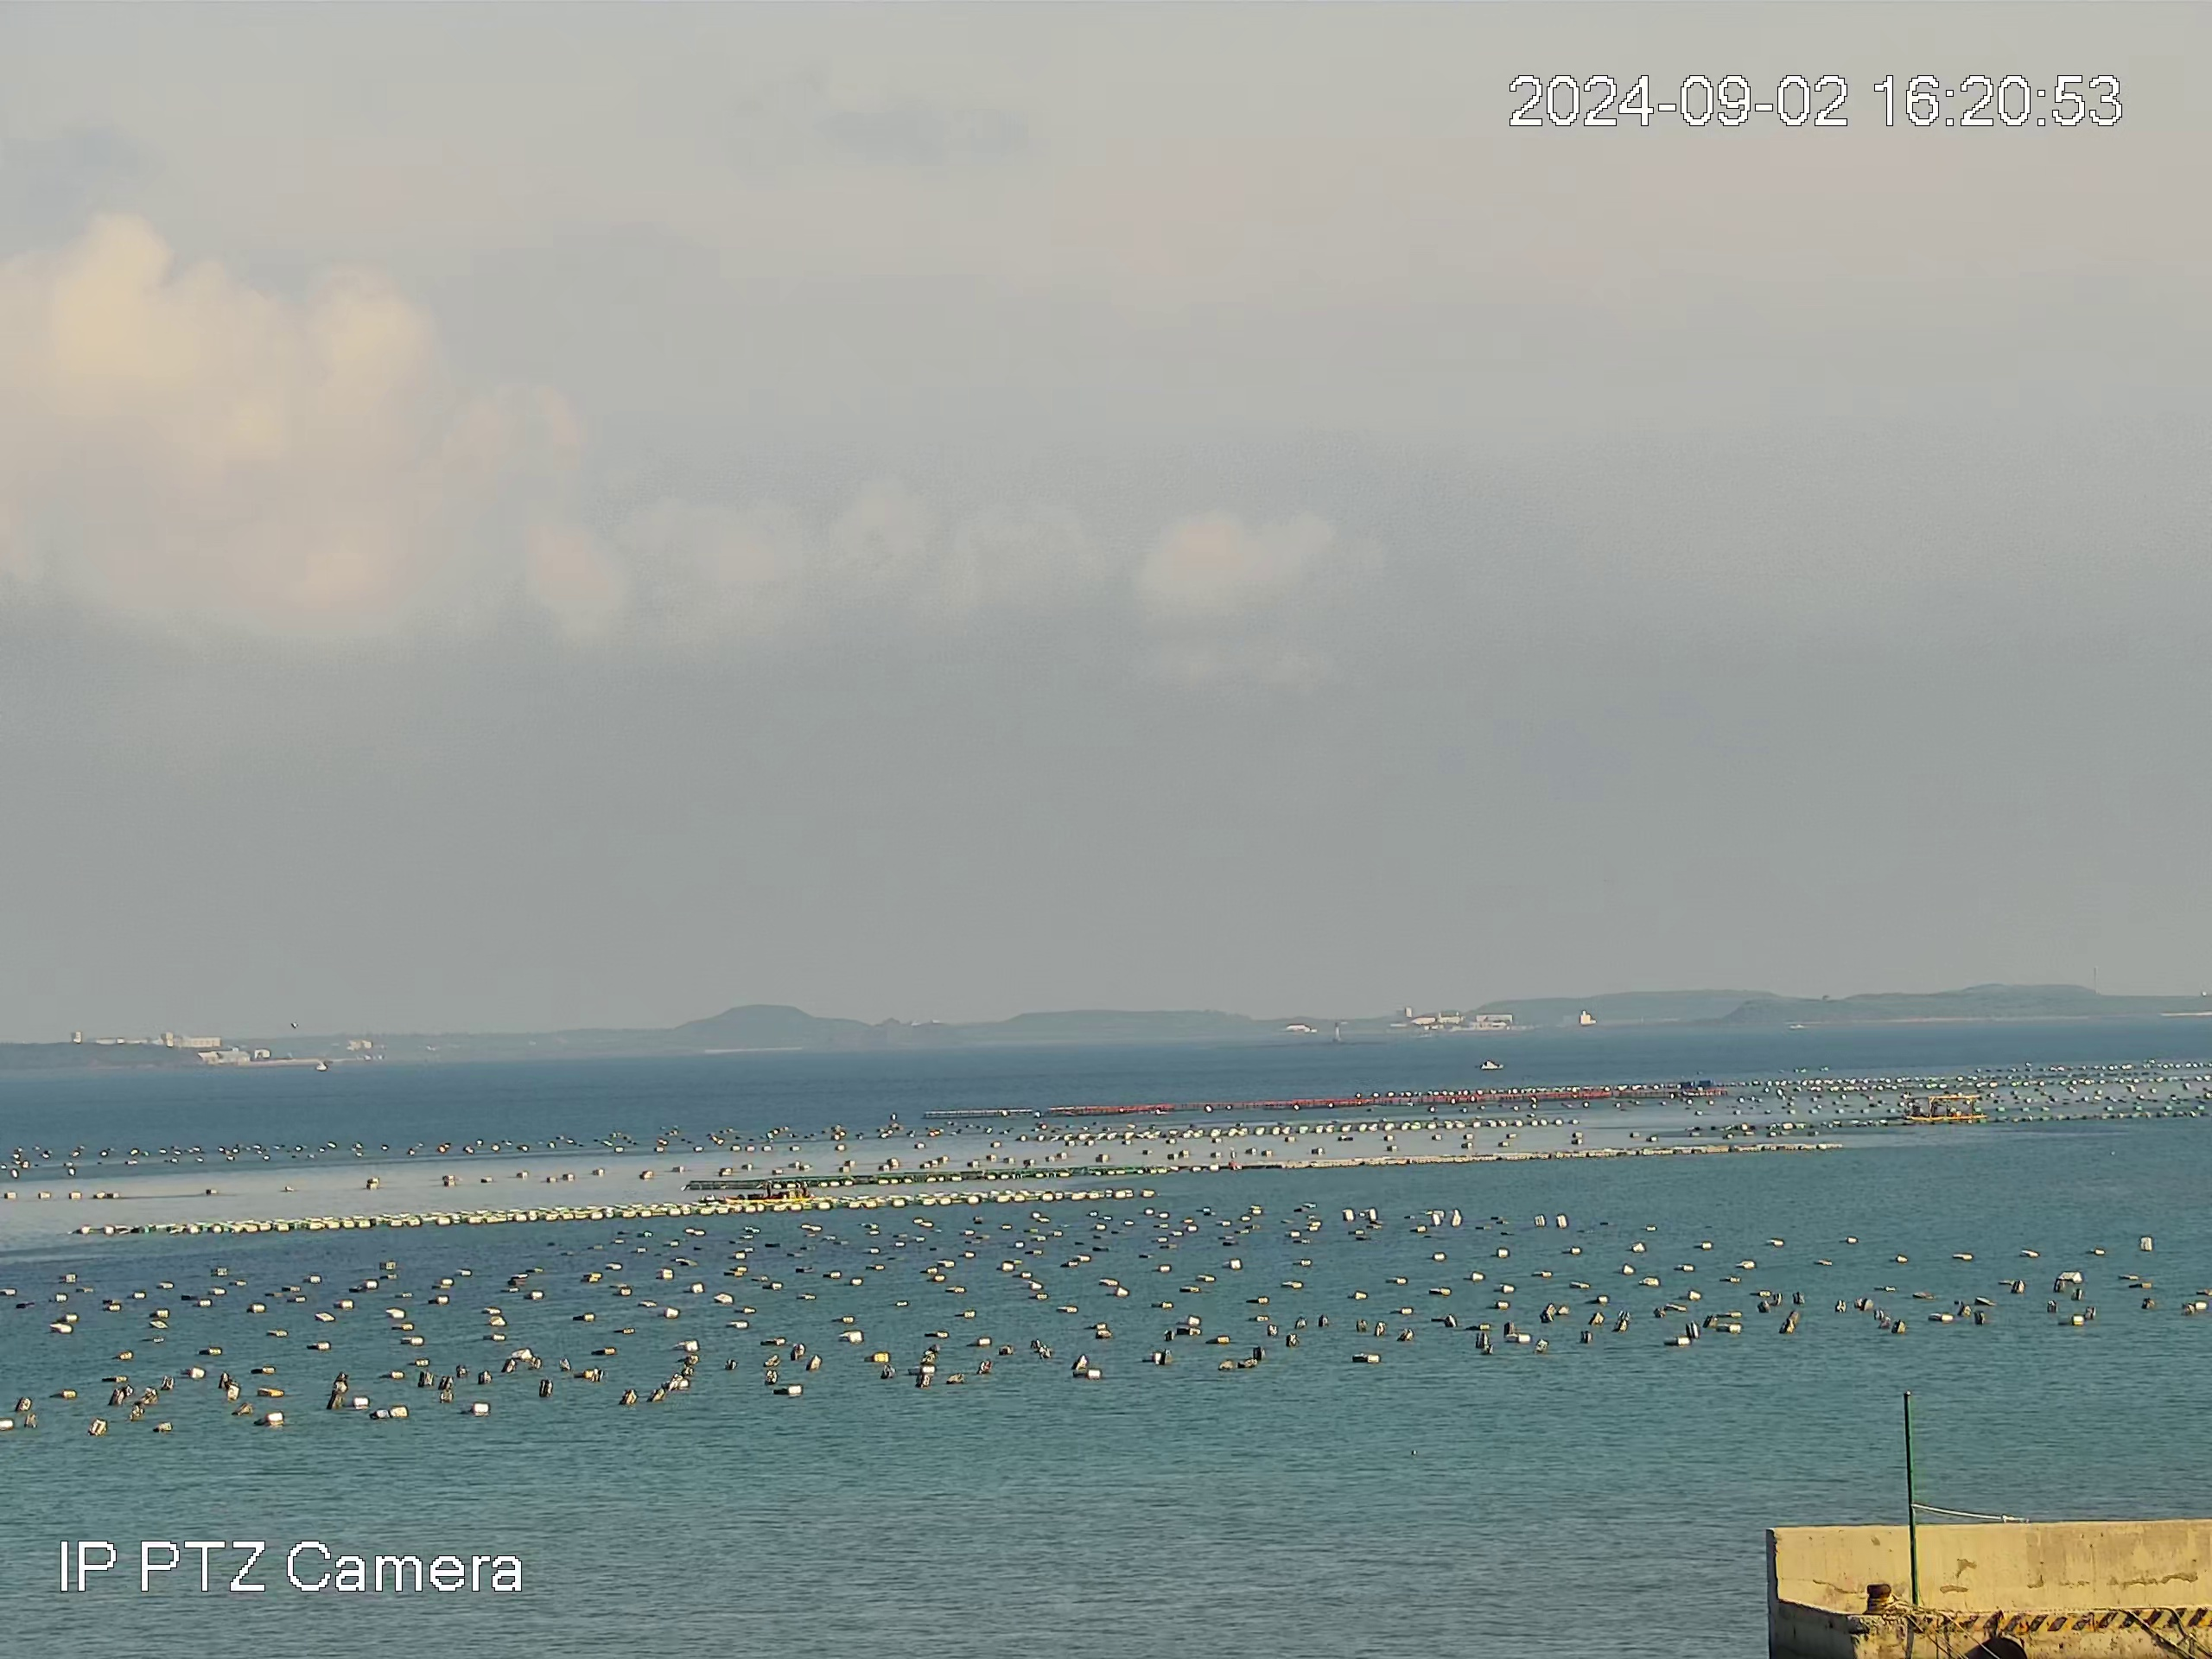boat: (1907, 1094, 1989, 1124), (721, 1180, 815, 1204), (1479, 1058, 1503, 1070)
